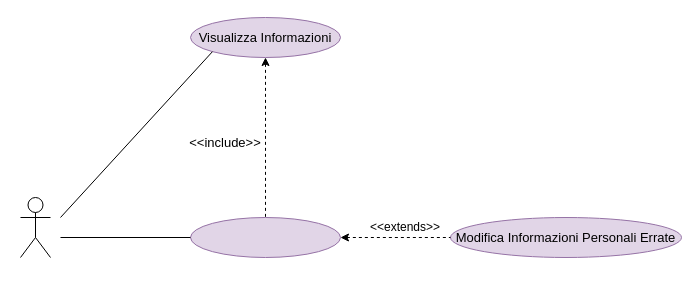
The diagram is 699 pixels wide and 296 high, and some of its shapes have lost their labels. The centre of each missing label's shape, as x and y in pixels:
Cliente: the point at 35,227
Modifica Informazioni: the point at 265,237
